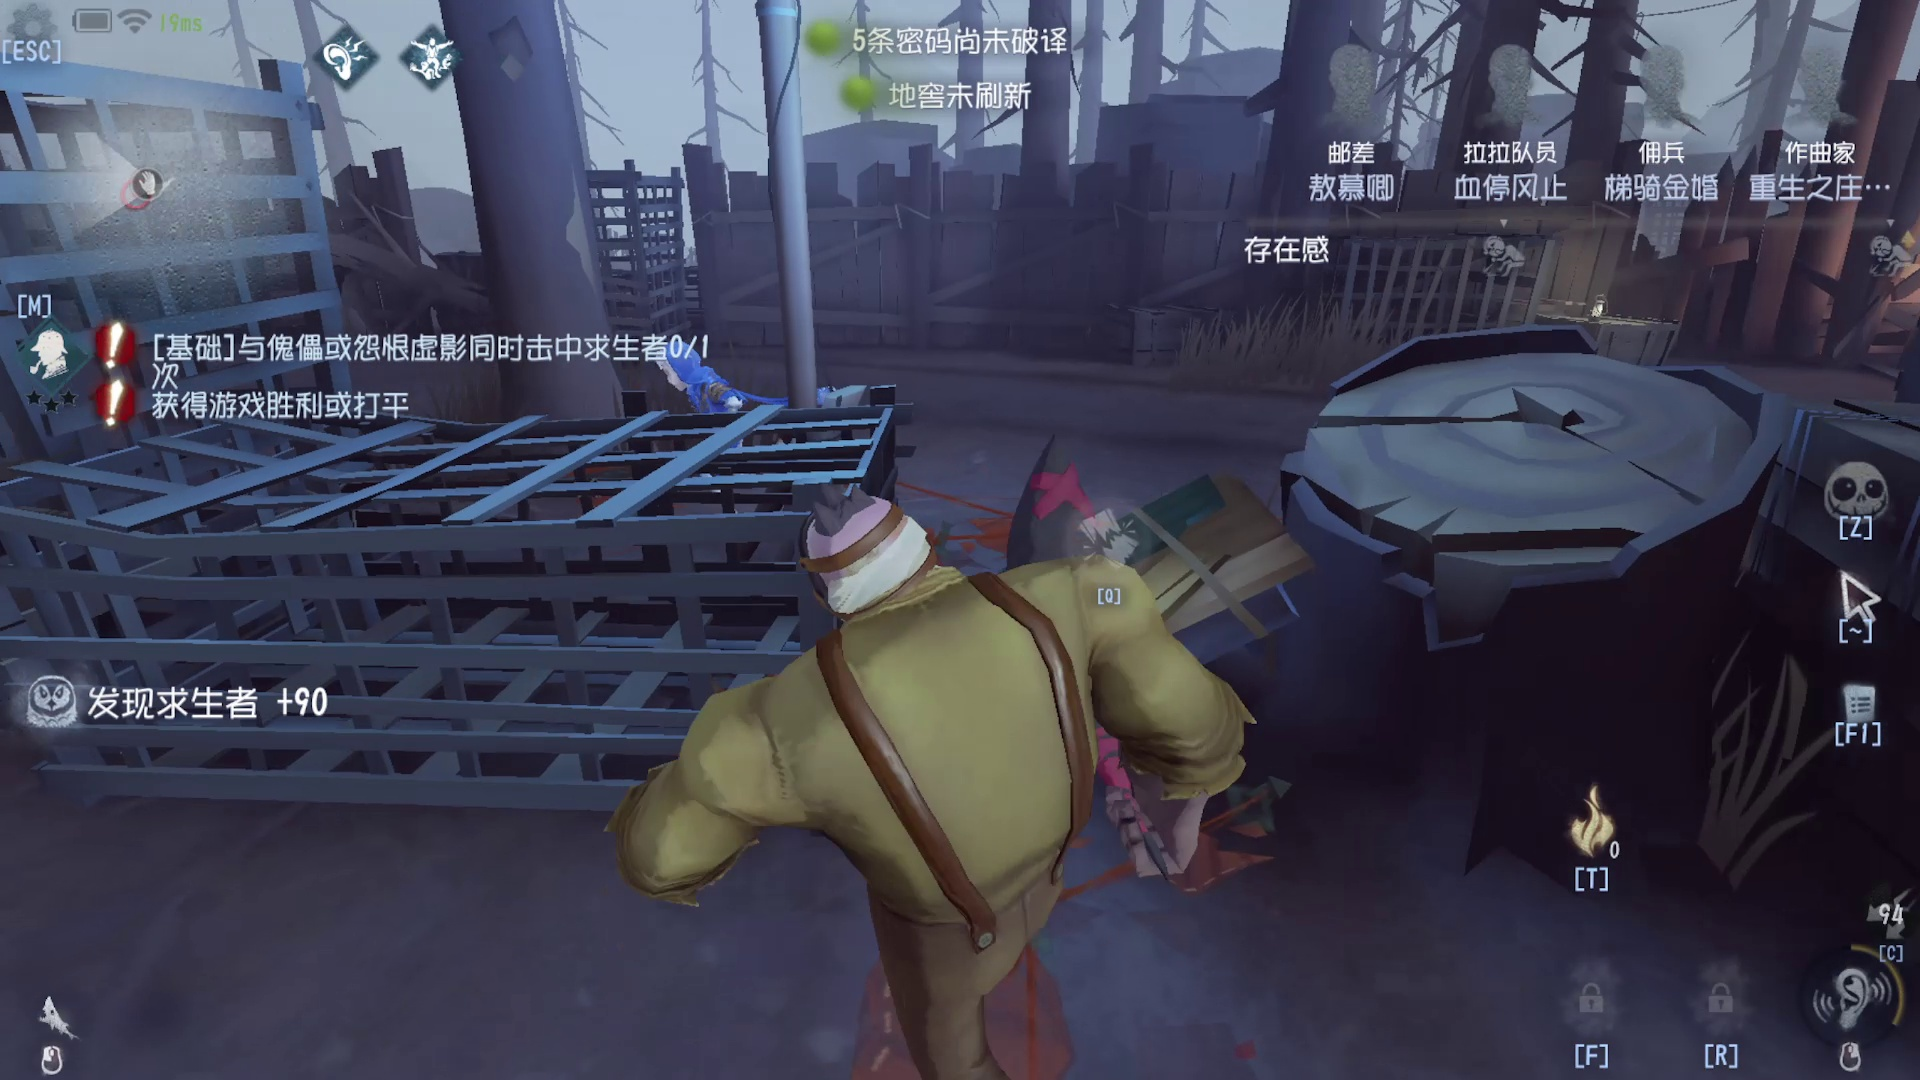求生者: (584, 307, 796, 440)
